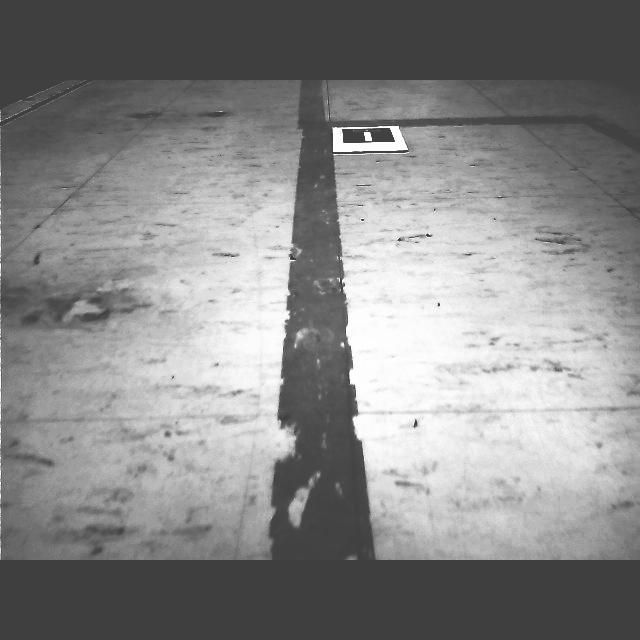DEAD END: (340, 128, 396, 142)
